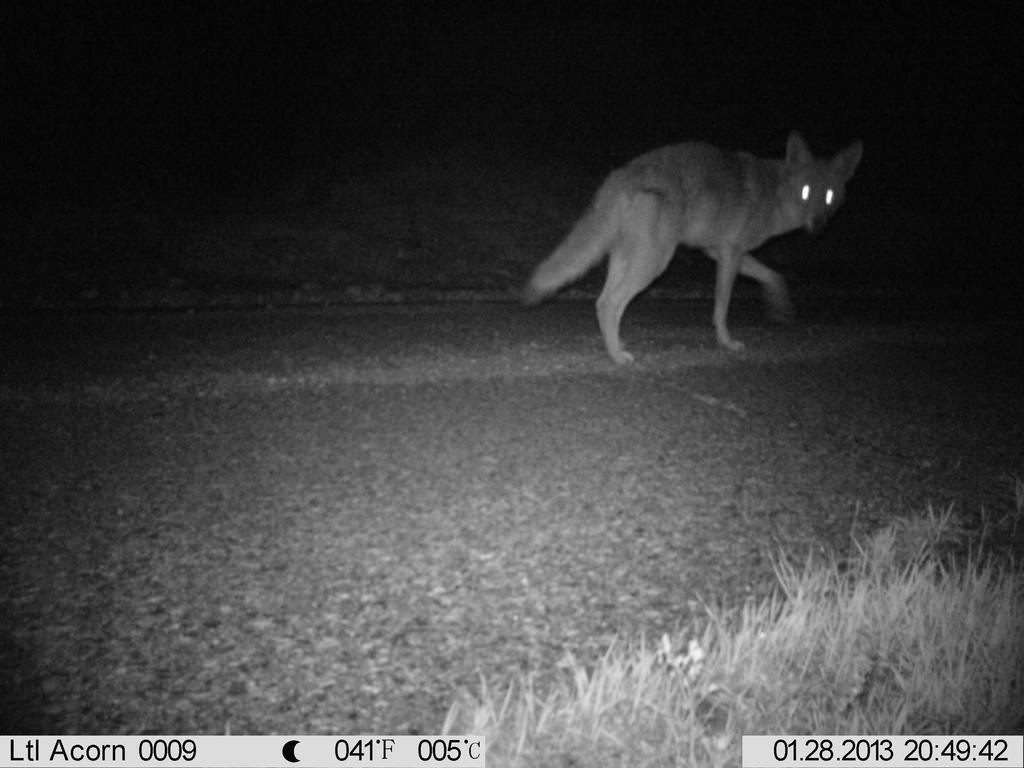coyote: (517, 109, 882, 379)
